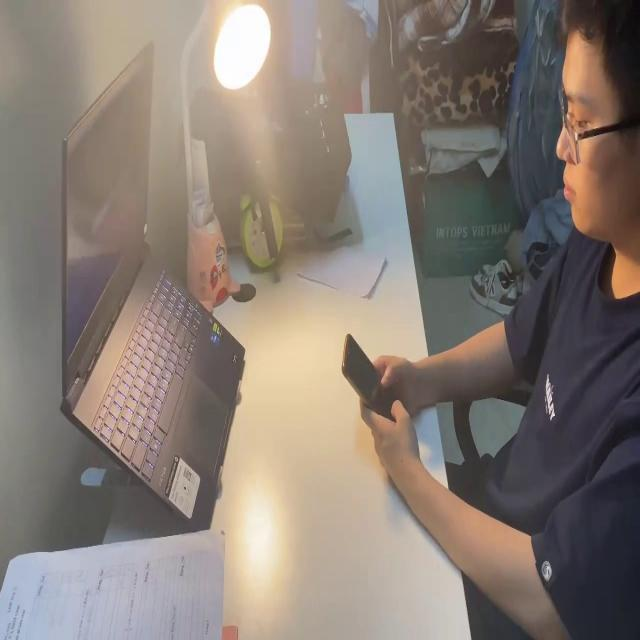book: (0, 528, 238, 640), (296, 238, 388, 301)
laptop: (57, 35, 247, 528)
phone: (338, 330, 401, 428)
student: (359, 0, 640, 640)
